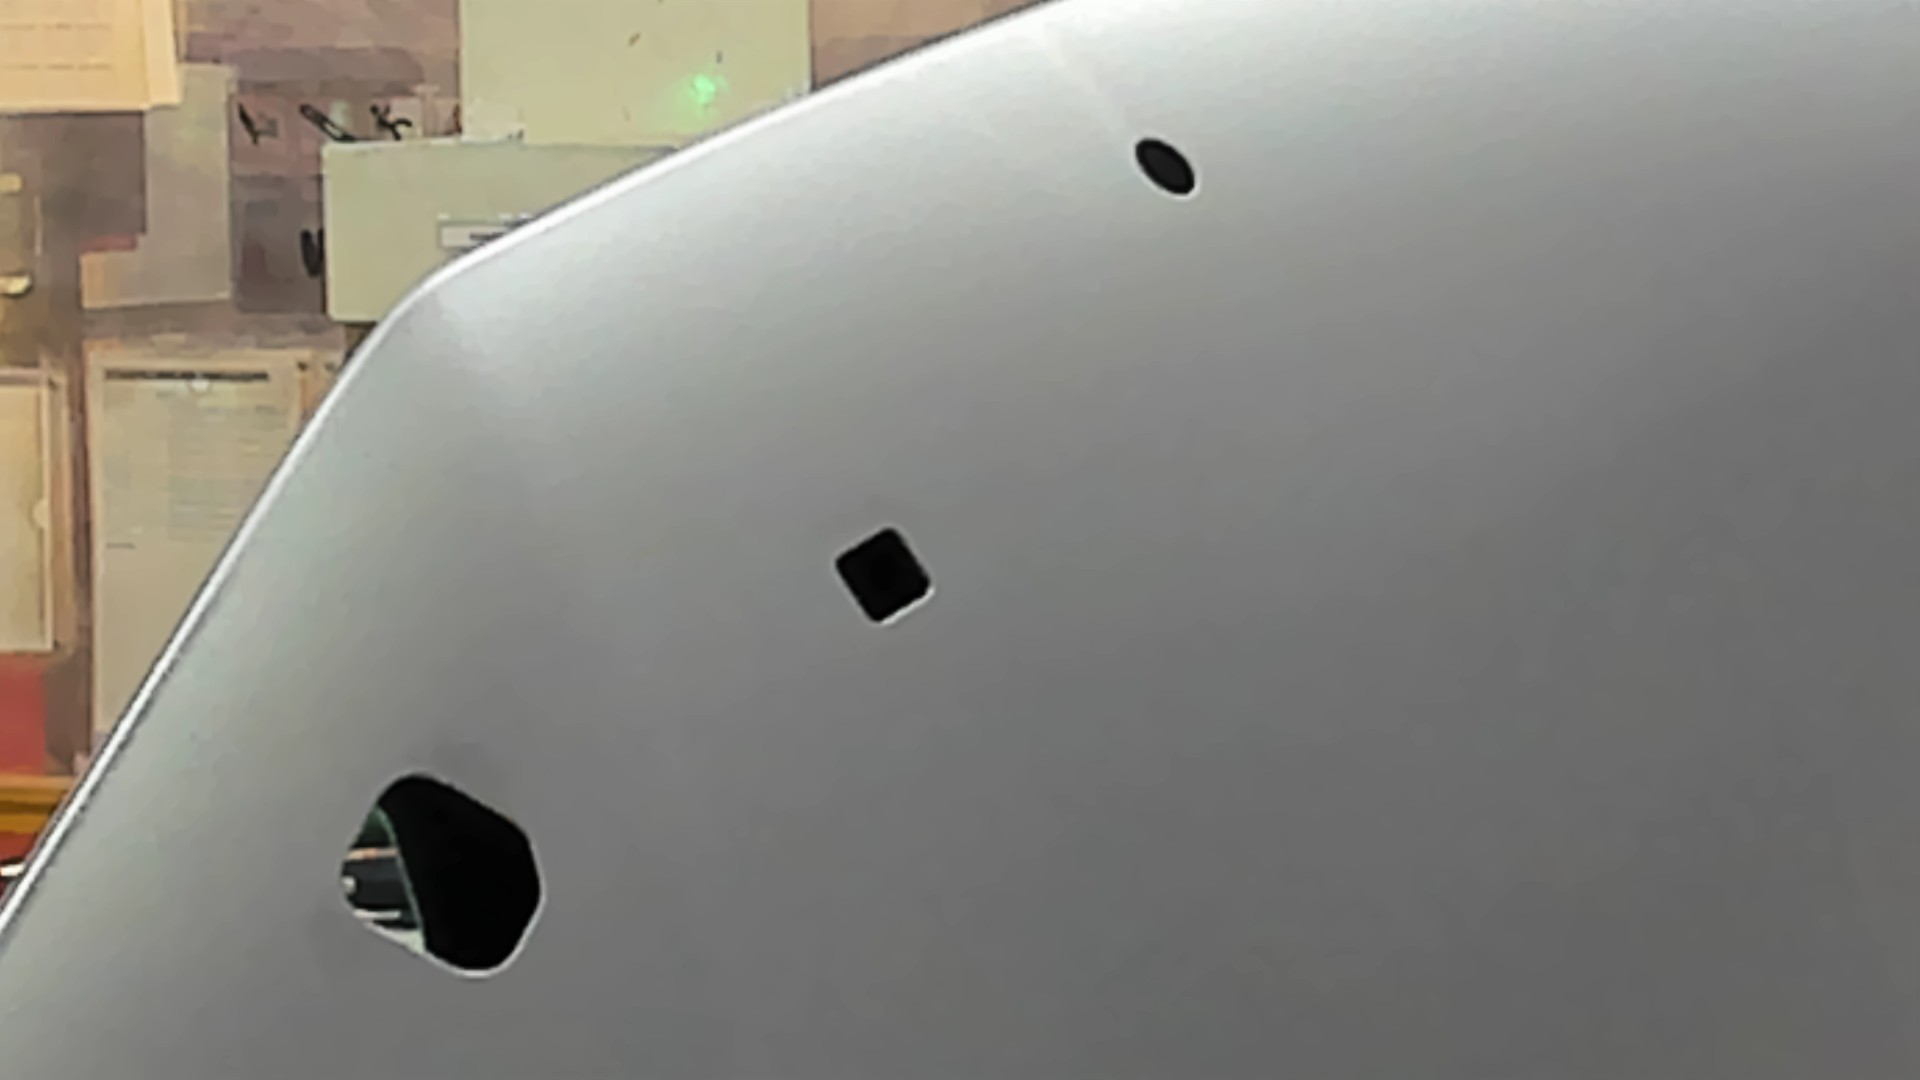chico: (1127, 127, 1207, 206)
grande: (287, 764, 580, 1004)
mediano: (800, 504, 965, 640)
